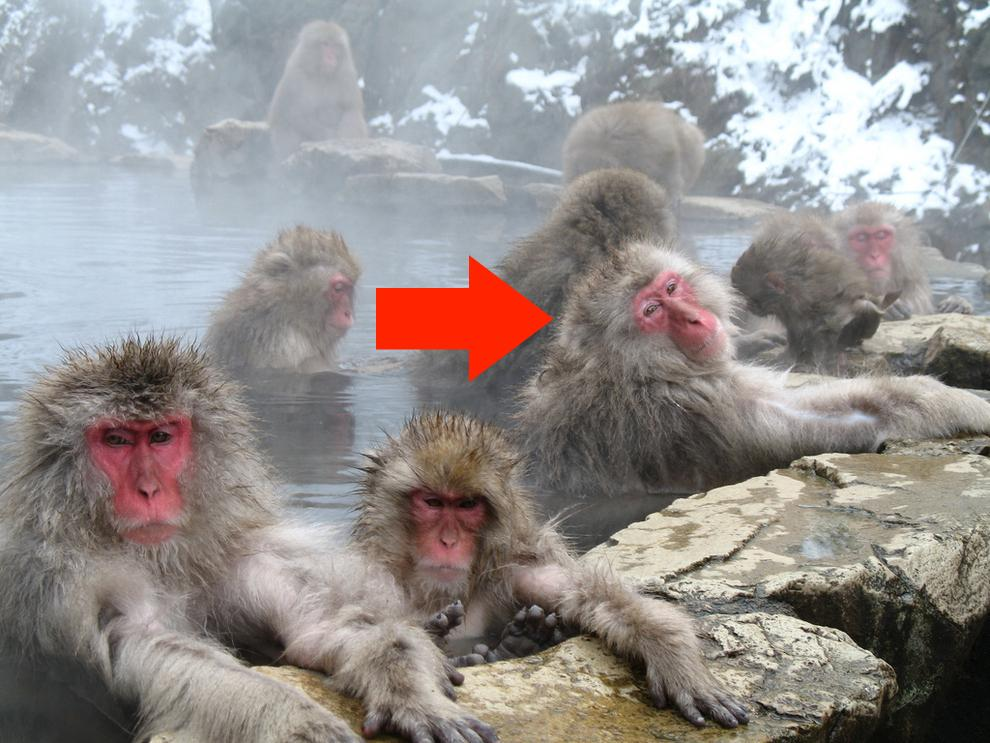monkey: (200, 103, 990, 729)
